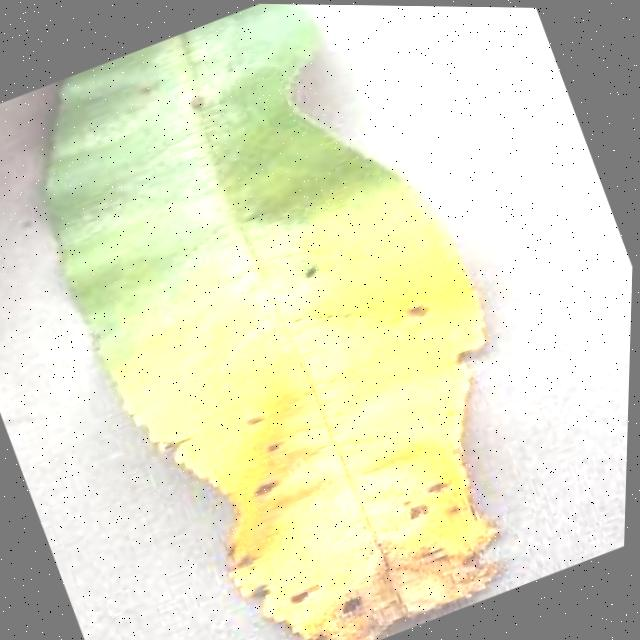Bacterial_spot: (116, 191, 547, 640), (167, 78, 226, 132)
